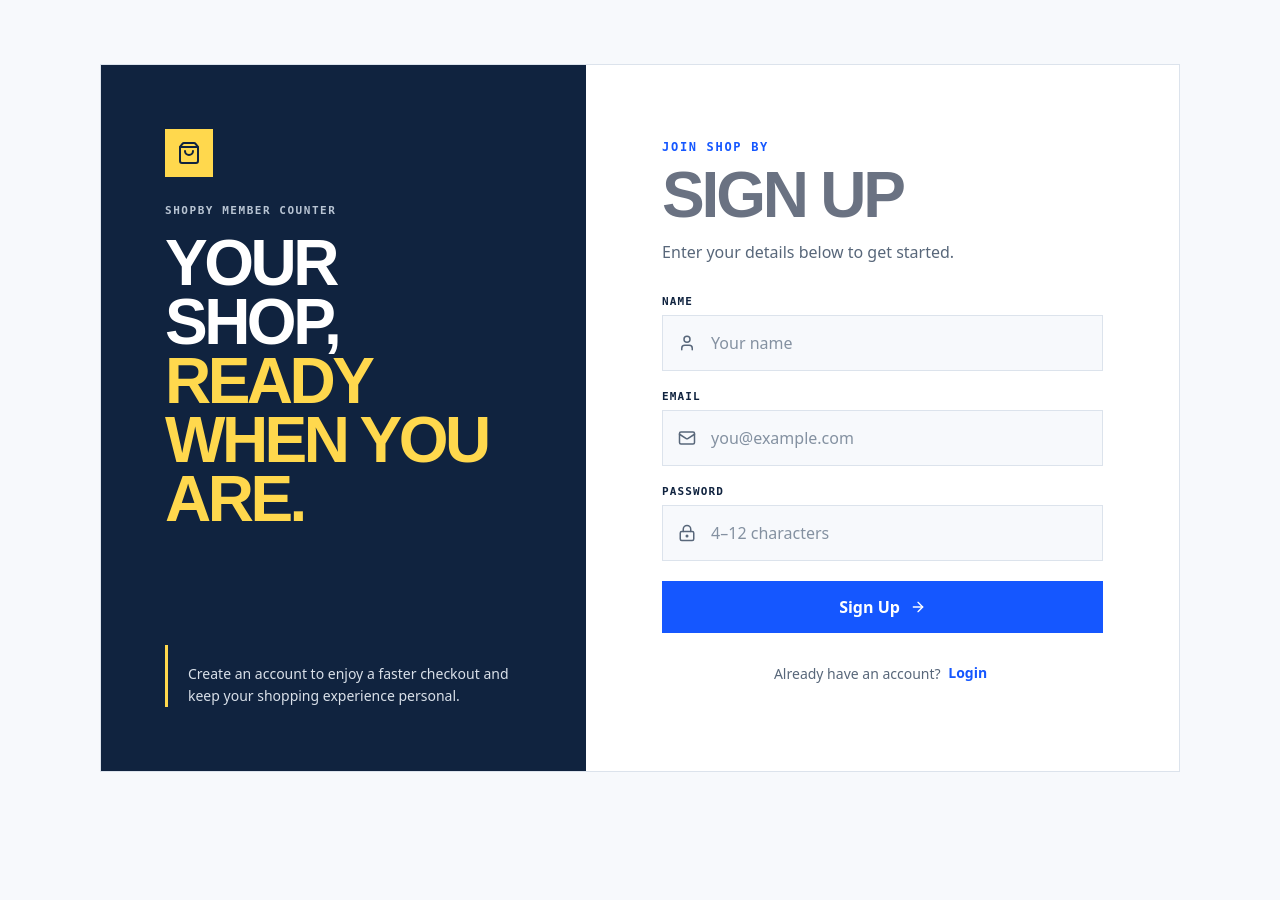
Test: Auth page › stays on Auth when automatic login fails after registration
The width and height of the screenshot is (1280, 900).
Type "Test User" into the field labelled "Name". click: (883, 343)
box: [662,315,1103,371]
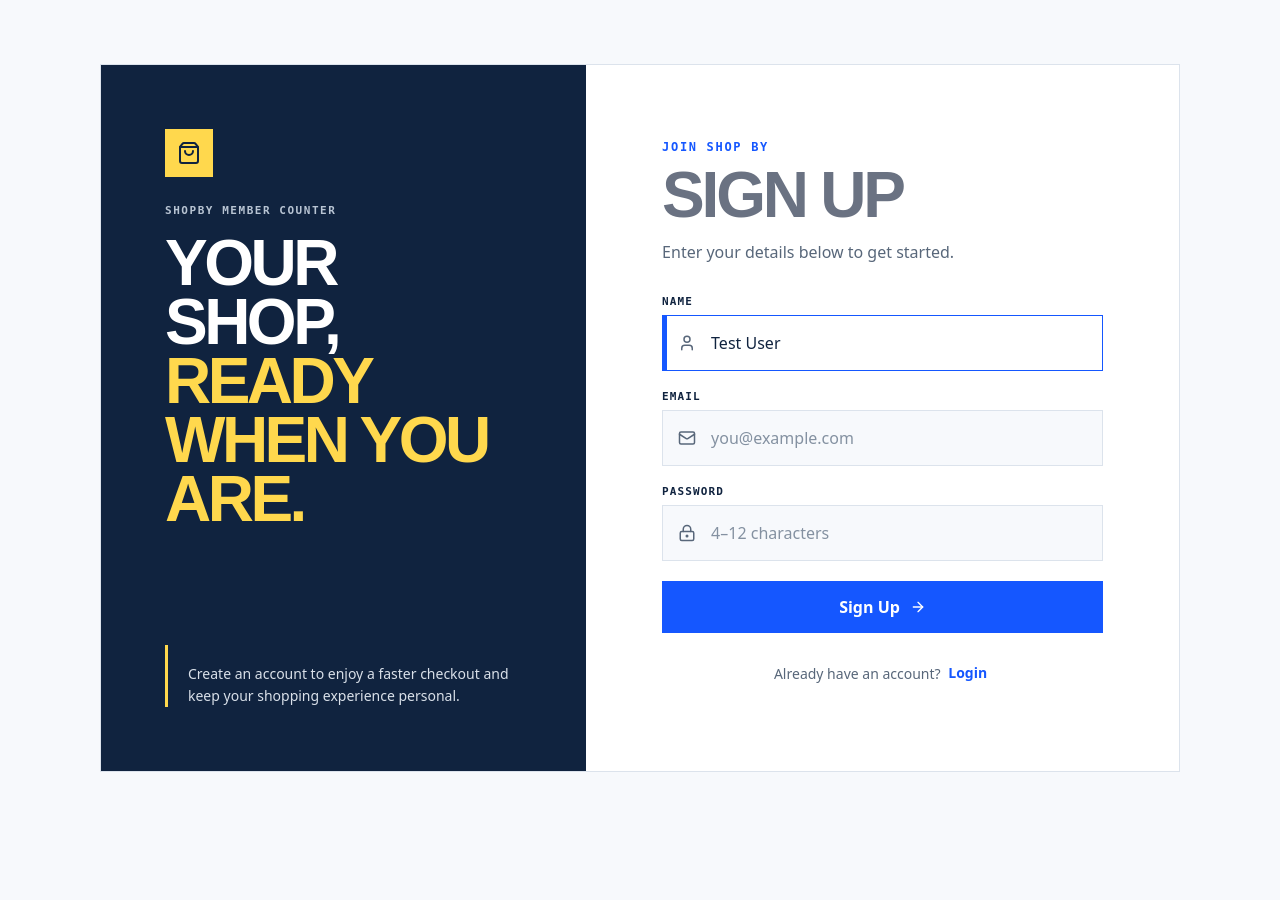
Type "test@example.com" into the field labelled "Email". click: (883, 438)
box: [662,410,1103,466]
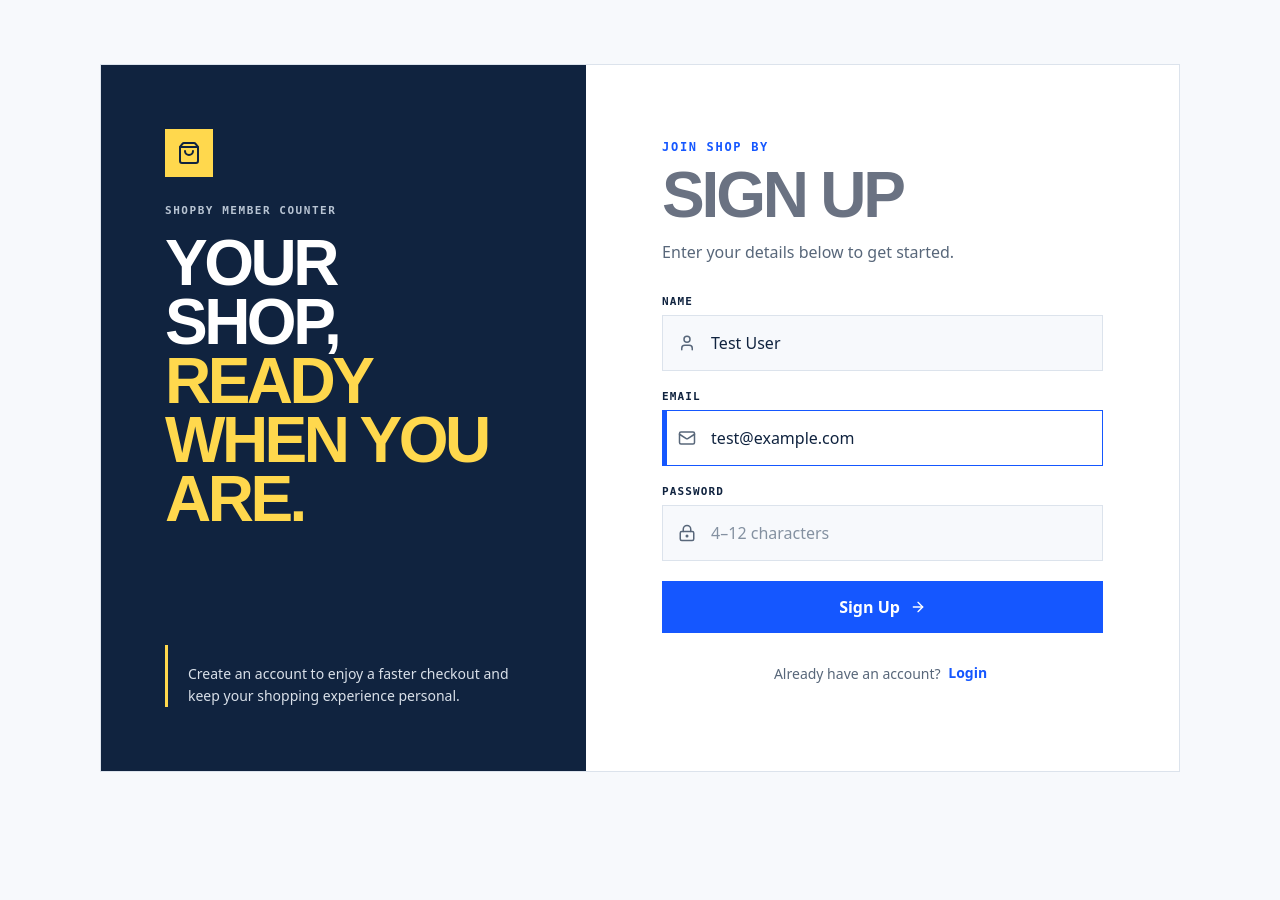
Type "password" into the password field labelled "Password". click: (883, 533)
box: [662,505,1103,561]
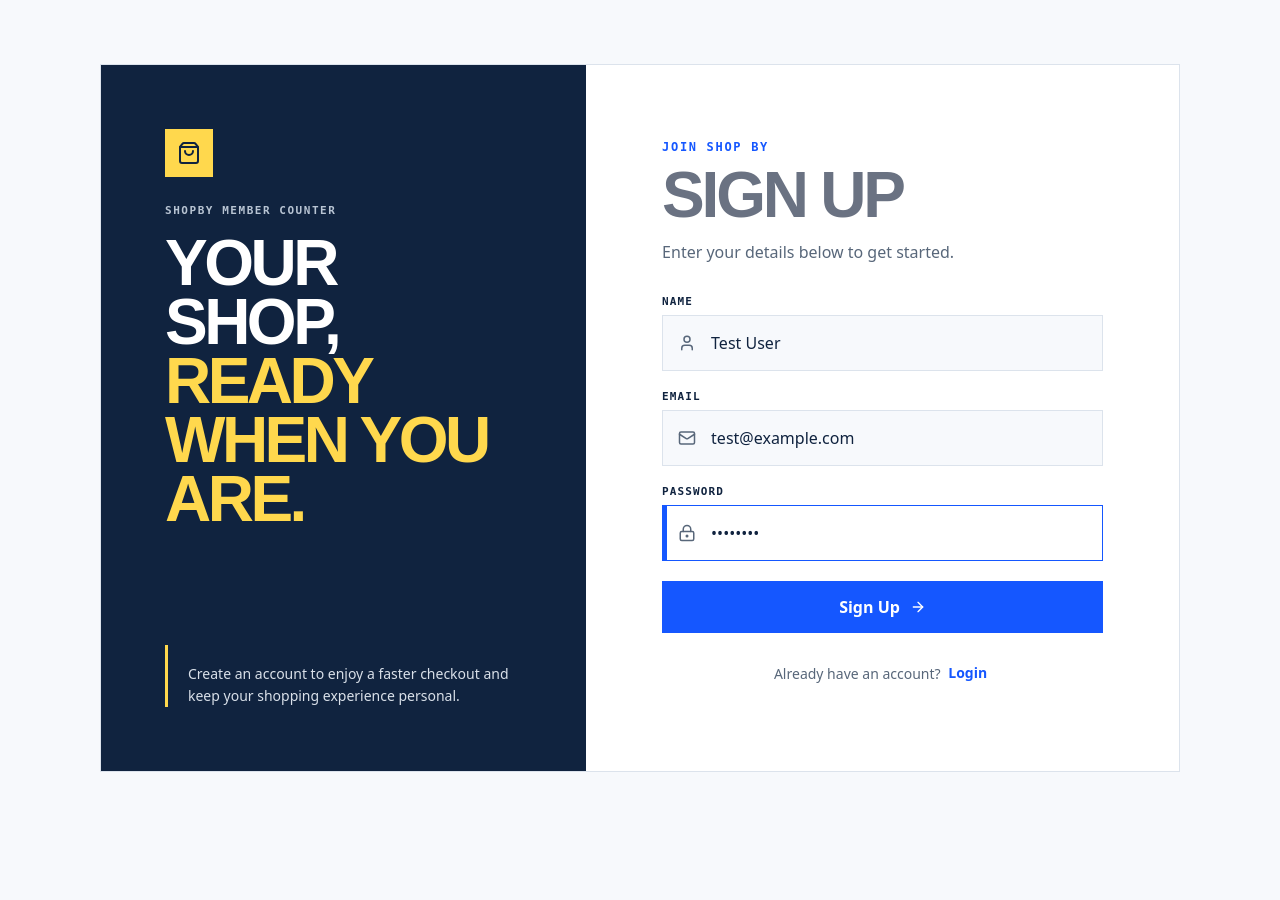
Click the button "Sign Up". click: click(883, 607)
box: [662,581,1103,633]
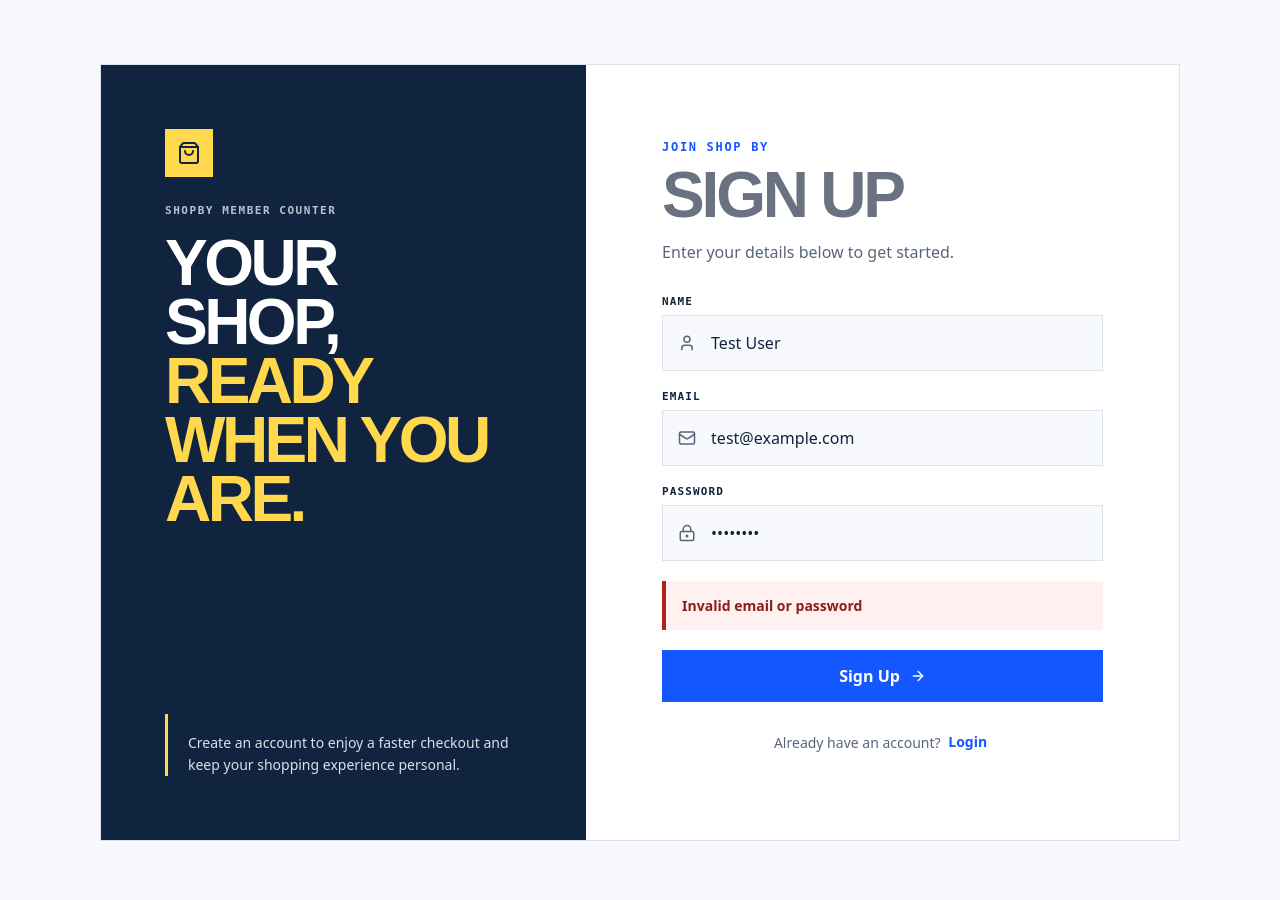
Check: the heading "Sign Up" is shown, box [662,159,903,231]
Check: the text "Invalid email or password" is shown, box [662,581,1103,630]
